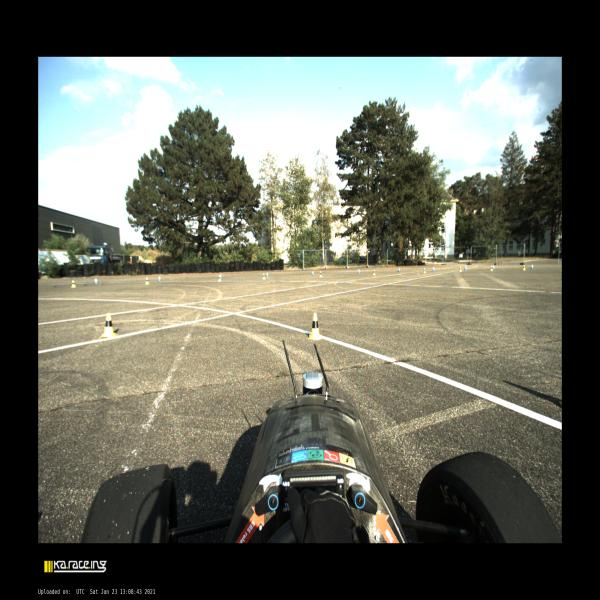blue_cone: (94, 278, 98, 284), (432, 266, 435, 272), (219, 273, 222, 279), (158, 276, 161, 282), (493, 264, 495, 270), (464, 266, 467, 270), (358, 268, 360, 274), (531, 264, 533, 269), (312, 270, 314, 275), (266, 272, 268, 277), (398, 268, 400, 272)
yellow_cone: (308, 313, 323, 340), (101, 313, 116, 337), (71, 280, 76, 288), (145, 277, 150, 284), (218, 275, 222, 282), (262, 274, 266, 280), (490, 265, 493, 271), (459, 266, 462, 272), (523, 265, 526, 270), (320, 272, 322, 278), (424, 268, 426, 273), (373, 270, 375, 275)
